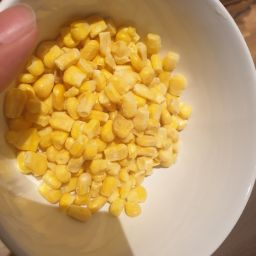Corn Kernel: (93, 13, 192, 205), (50, 20, 144, 217), (5, 53, 79, 235)
